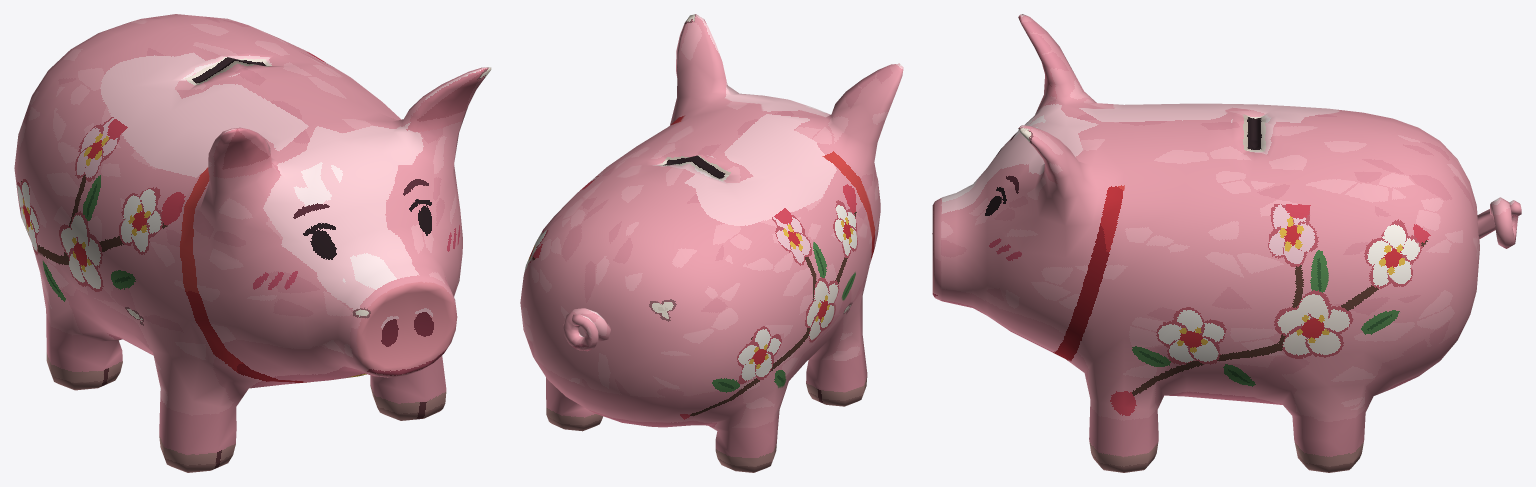
File: piggy_bank.glb
The picture shows the model from 3 angles, left to right: view 1: azimuth 30°, elevation 25°; view 2: azimuth 150°, elevation 25°; view 3: azimuth 270°, elevation 25°; orthographic projection. The views are drawn at different scales.
Parts seen in each view (by area): view 1: body; view 2: body; view 3: body.
Part boxes in pixels (x1=…): body: x1=14, y1=14, x2=491, y2=472; body: x1=520, y1=14, x2=903, y2=472; body: x1=932, y1=14, x2=1521, y2=472.
Size of the model in its own units: 0.1322 by 0.1523 by 0.2368.
1 material, 1 textured.
